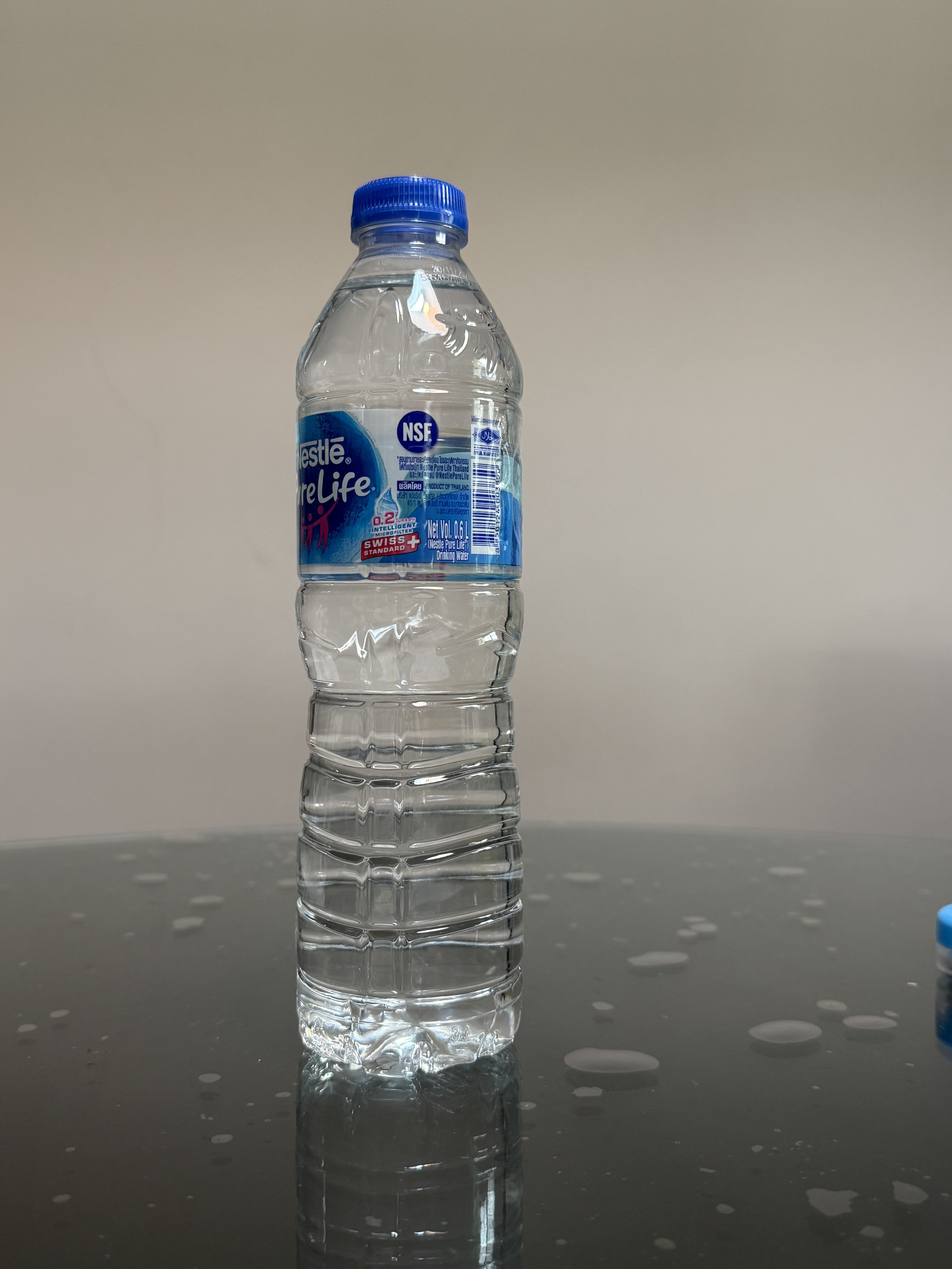closed_cap: (348, 172, 470, 246)
